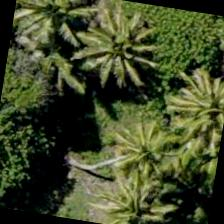Kelapa_Sawit: (64, 0, 168, 102), (97, 100, 200, 202), (88, 159, 188, 223), (164, 51, 223, 150), (9, 0, 102, 60)
